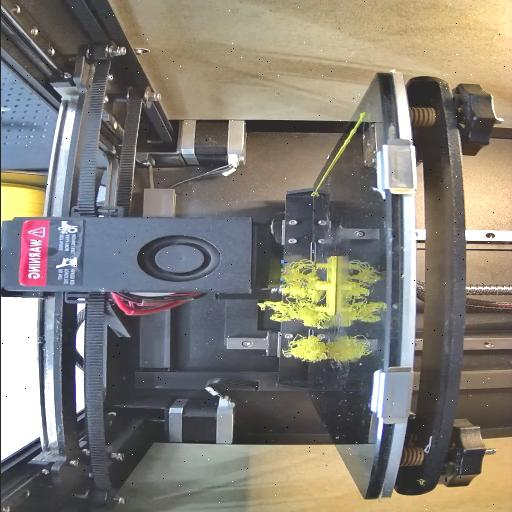spaghetti: (254, 259, 324, 328), (278, 332, 329, 367)
